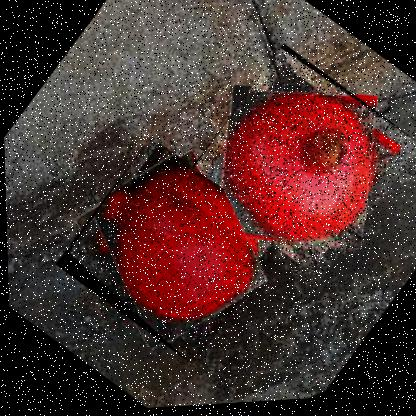pomegranate: (167, 39, 415, 300), (48, 131, 288, 373)
